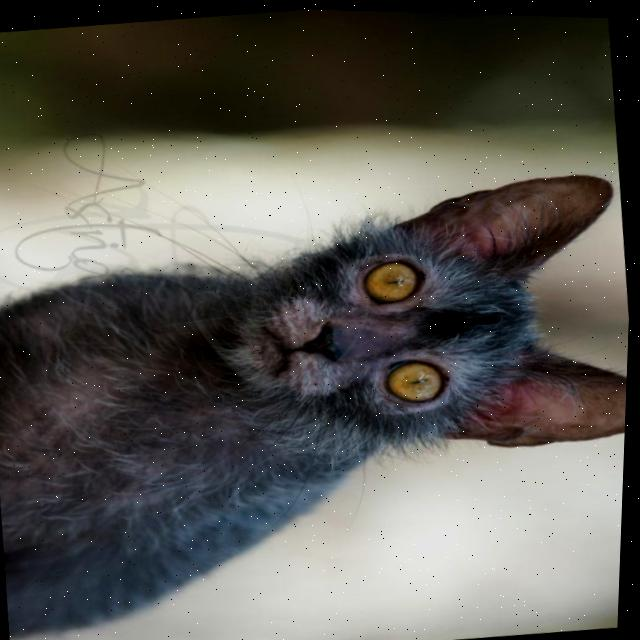Lykoi: (0, 149, 636, 640)
